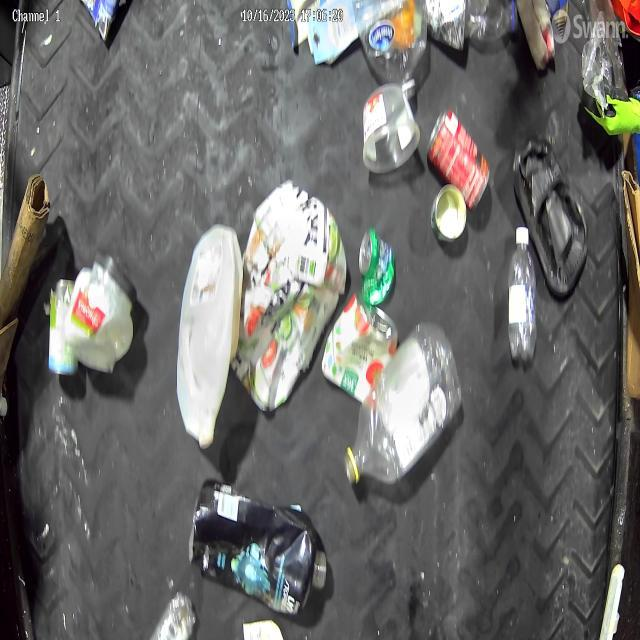can: (360, 228, 392, 304)
milk_jug: (180, 225, 240, 440)
non_white_jug: (185, 475, 328, 610)
plastic_bottle: (340, 315, 460, 497), (504, 224, 542, 358), (425, 0, 516, 51)
